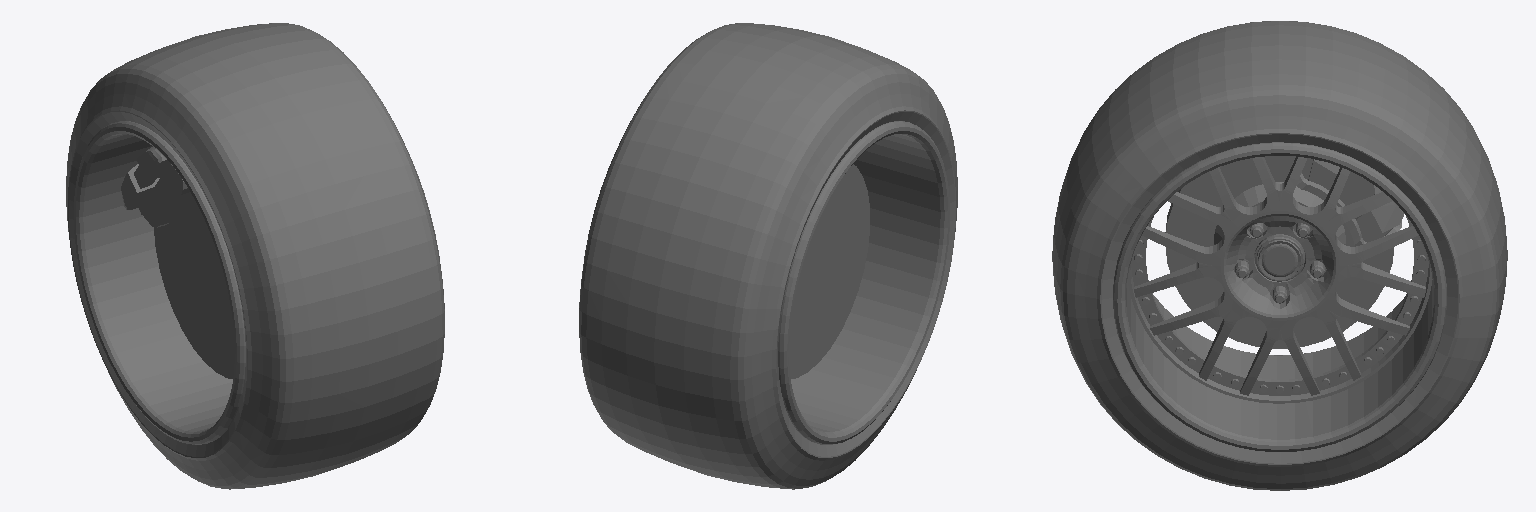
The model's file is Llanta_Trasera_Izq.obj.
The picture shows the model from 3 angles: view 1: azimuth 30°, elevation 25°; view 2: azimuth 150°, elevation 25°; view 3: azimuth 270°, elevation 25°; orthographic projection.
Parts seen in each view (by area): view 1: Llanta_Trasera_Izq; view 2: Llanta_Trasera_Izq; view 3: Llanta_Trasera_Izq.
Boxes of the visible parts, x1=… form: Llanta_Trasera_Izq: x1=66, y1=23, x2=444, y2=489; Llanta_Trasera_Izq: x1=579, y1=23, x2=957, y2=489; Llanta_Trasera_Izq: x1=1052, y1=21, x2=1507, y2=490.
Bounding box in the file's own units: 1.08 × 2 × 2.